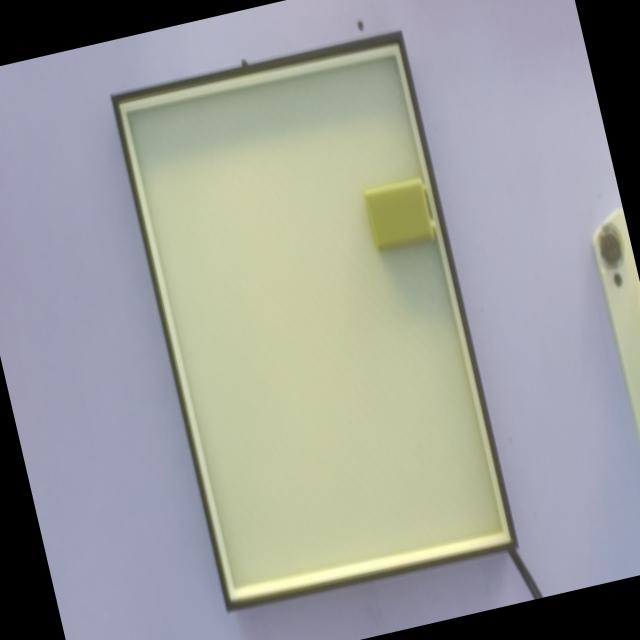bateria: (363, 179, 439, 256)
mesa: (111, 30, 519, 611)
